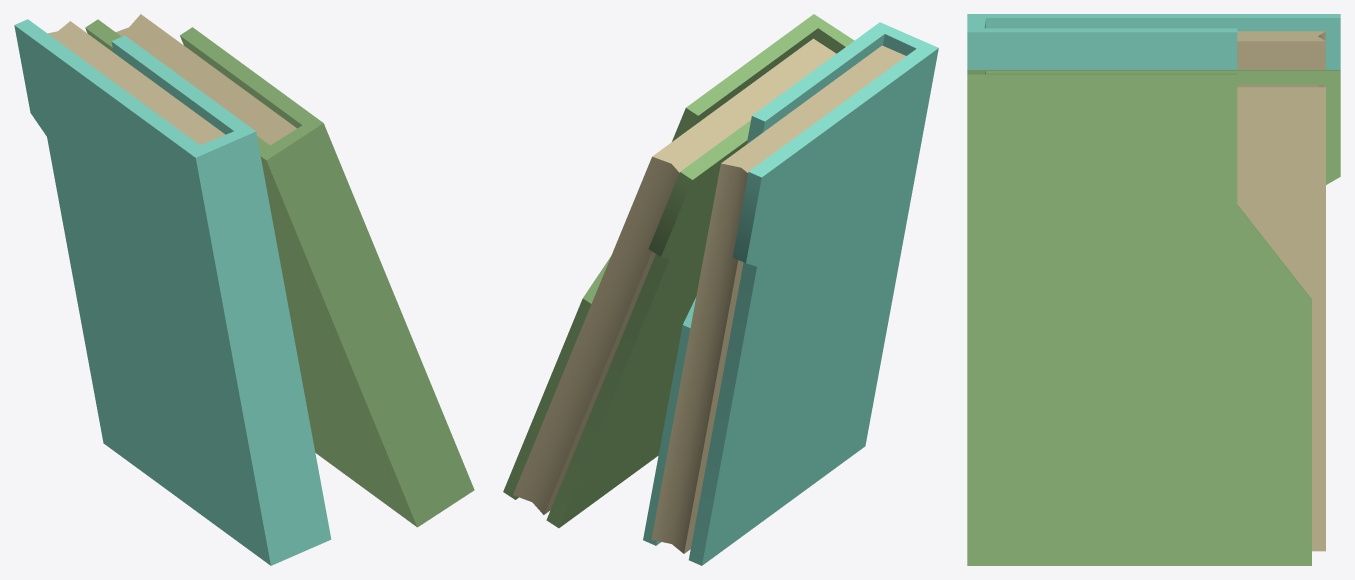
File: SM_Folders_A_GRP_04.fbx
The picture shows the model from 3 angles, left to right: view 1: azimuth 30°, elevation 25°; view 2: azimuth 150°, elevation 25°; view 3: azimuth 270°, elevation 25°; orthographic projection. The views are drawn at different scales.
Parts seen in each view (by area): view 1: SM_Folders_A_GRP_04; view 2: SM_Folders_A_GRP_04; view 3: SM_Folders_A_GRP_04.
Boxes of the visible parts, left/top/right/bottom form: SM_Folders_A_GRP_04: left=14, top=14, right=474, bottom=565; SM_Folders_A_GRP_04: left=503, top=14, right=938, bottom=565; SM_Folders_A_GRP_04: left=967, top=14, right=1340, bottom=565.
Bounding box in the file's own units: 20.19 × 30.31 × 22.75.
